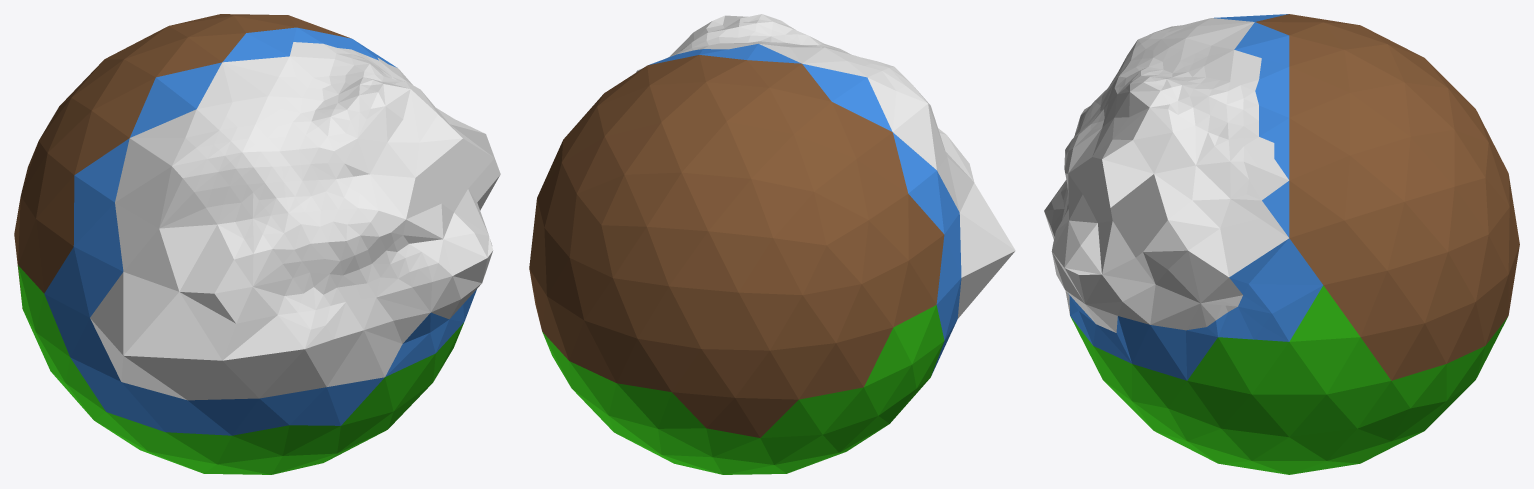
Rendered from planet 1o2o3o.fbx.
3 views of the same model, side by side, from view 1: azimuth 30°, elevation 25°; view 2: azimuth 150°, elevation 25°; view 3: azimuth 270°, elevation 25° (orthographic). The views are drawn at different scales.
Parts seen in each view (by area): view 1: Icosphere.003; view 2: Icosphere.003; view 3: Icosphere.003.
Boxes of the visible parts, x1,y1,x2,y2 form: Icosphere.003: (14,14,500,474); Icosphere.003: (529,14,1015,474); Icosphere.003: (1044,14,1519,474).
Bounding box in the file's own units: 2013 × 2000 × 2064.
